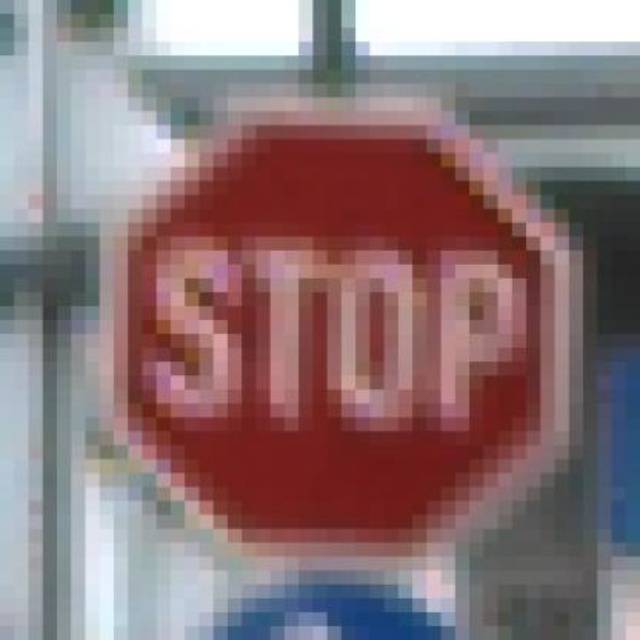Dừng lại: (117, 114, 556, 566)
